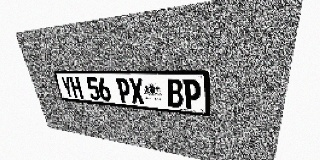5: (86, 77, 101, 100)
6: (96, 77, 112, 101)
B: (166, 79, 183, 108)
H: (69, 77, 84, 99)
P: (183, 79, 201, 110), (116, 78, 132, 103)
X: (128, 78, 145, 104)
Y: (60, 77, 74, 98)
